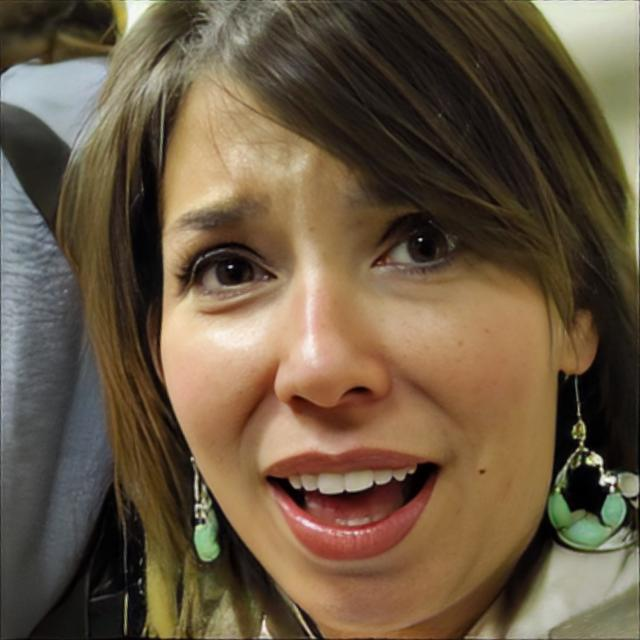Fear: (158, 59, 560, 634)
